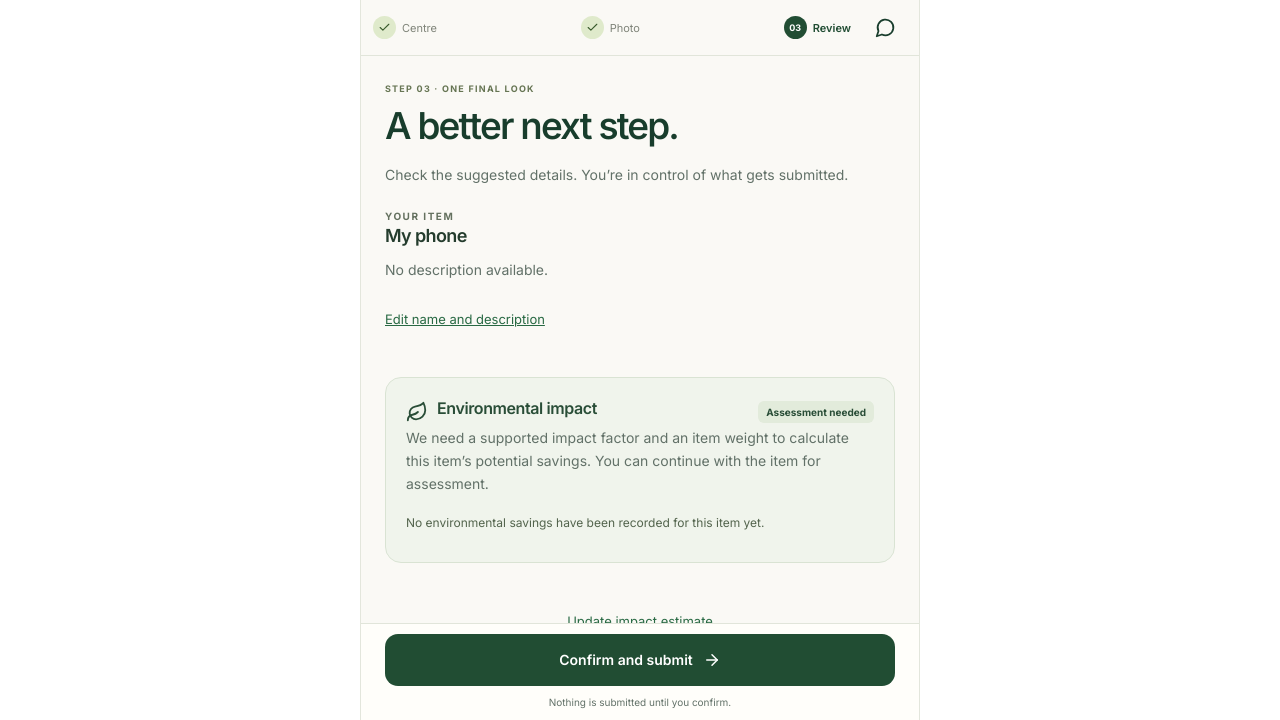
it: protects actual edits and discards only local changes after confirmation
This screenshot has width=1280, height=720.
Click the button "Edit name and description".
click(465, 319)  # box [385,299,545,339]
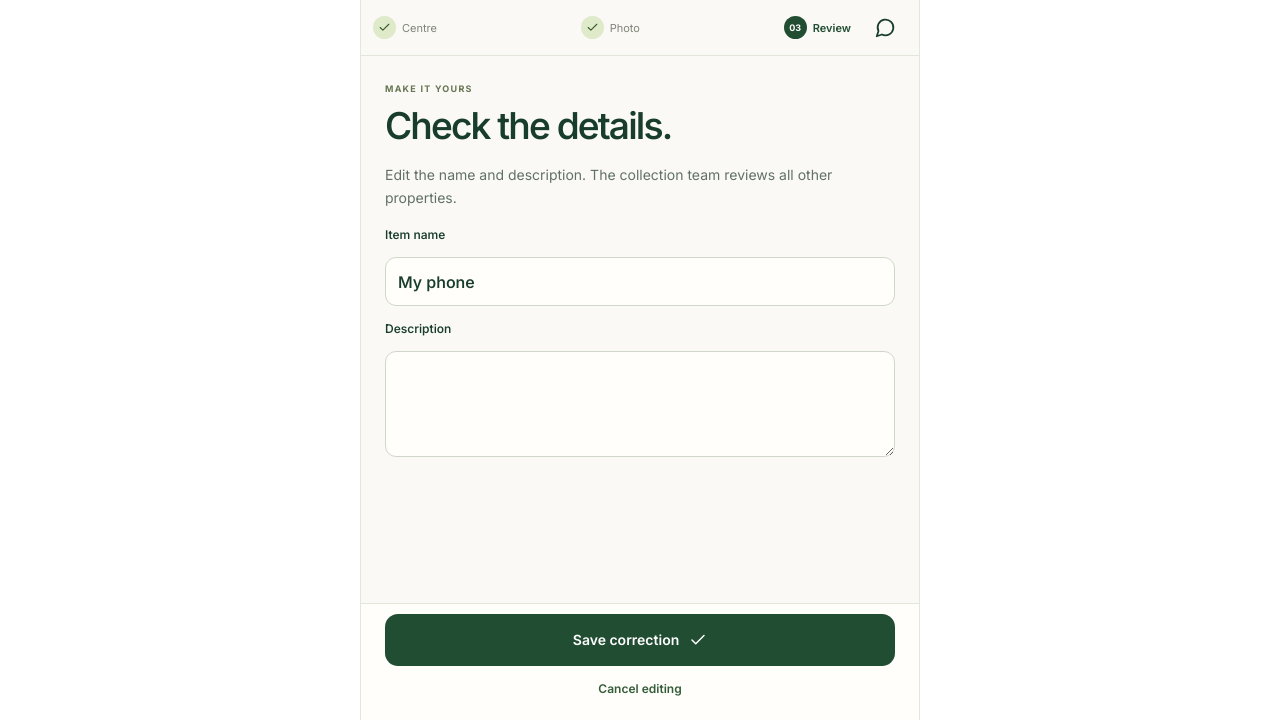
Replace the text in the field labelled "Item name" with "Changed phone" at (640, 282), box [385,257,895,306]
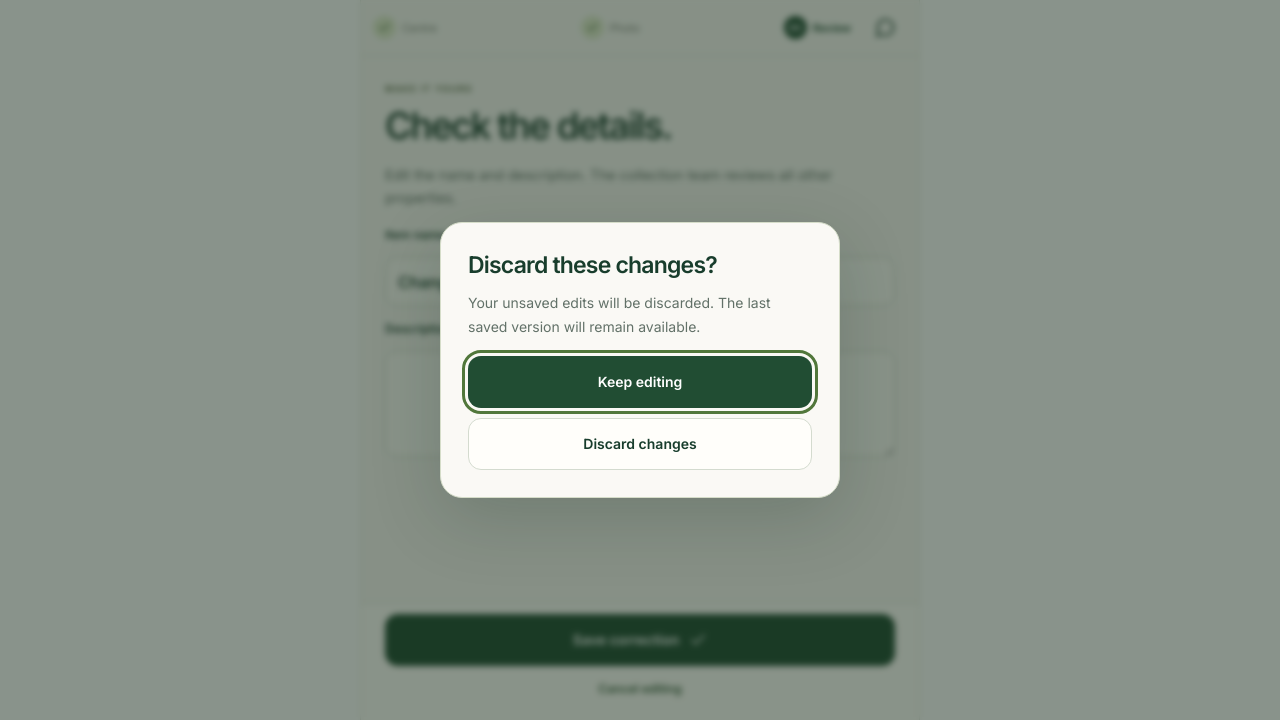
Now the dialog "Discard these changes?" is shown, box [440,222,840,498]
Click the button "Keep editing".
click(640, 382)  # box [468,356,812,408]
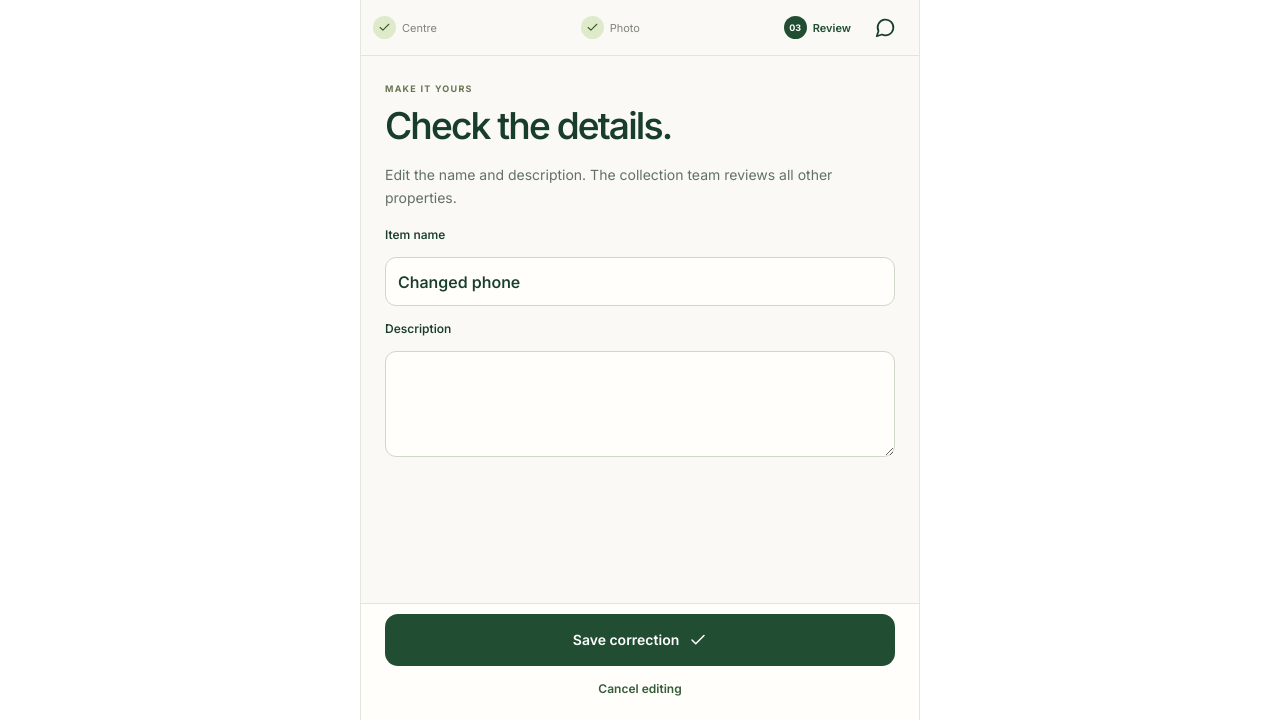
Click the button "Cancel editing".
click(640, 688)  # box [385,666,895,710]
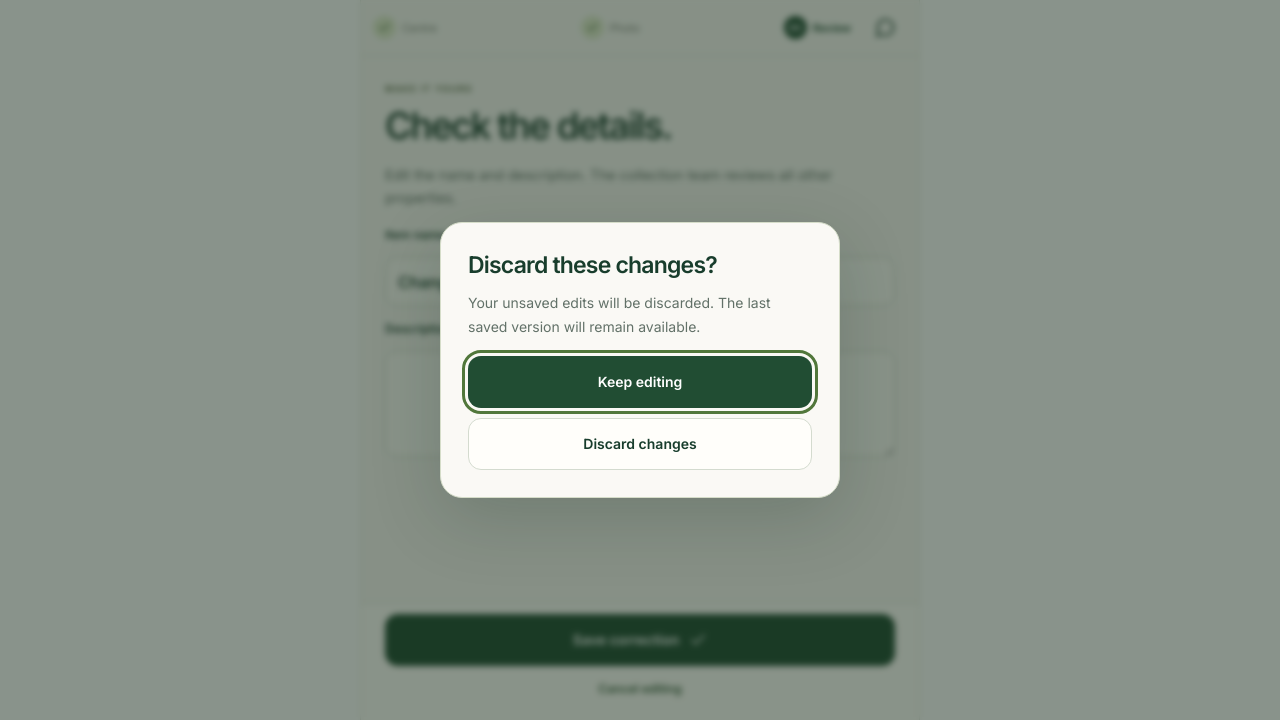
Click the button "Discard changes".
click(640, 444)  # box [468,418,812,470]
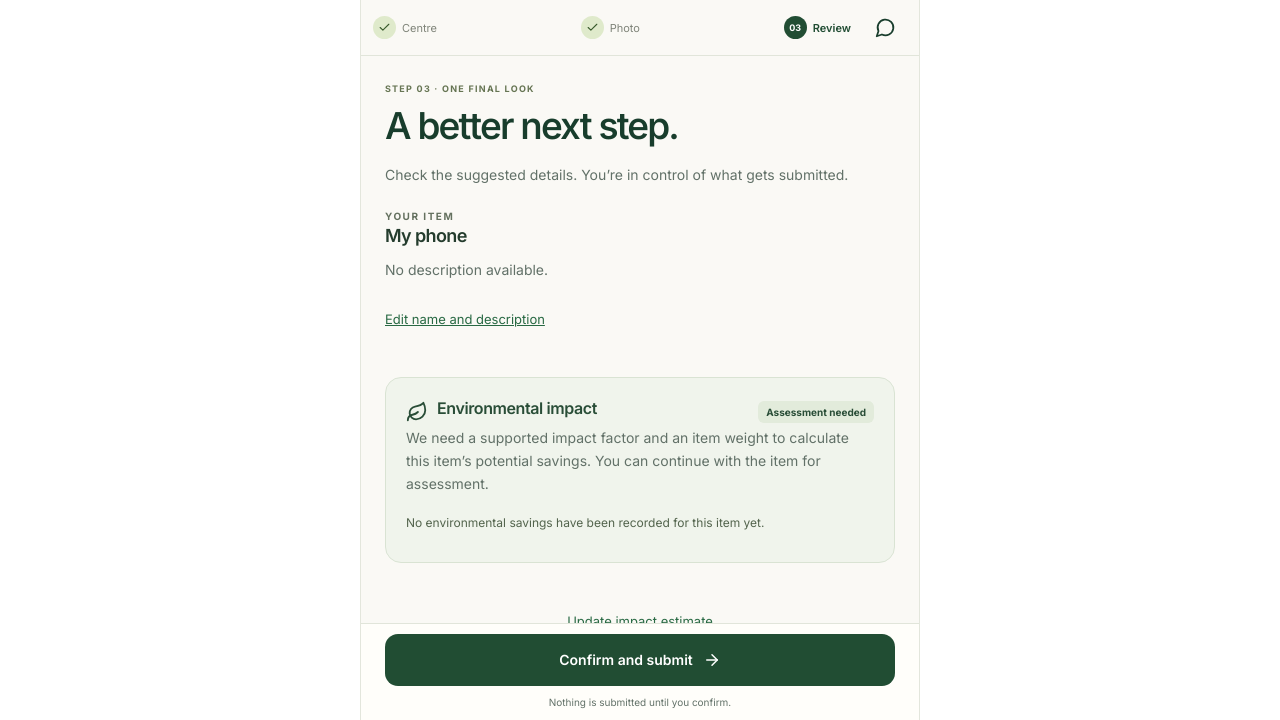
Now the heading "My phone" is shown, box [385,225,467,246]
